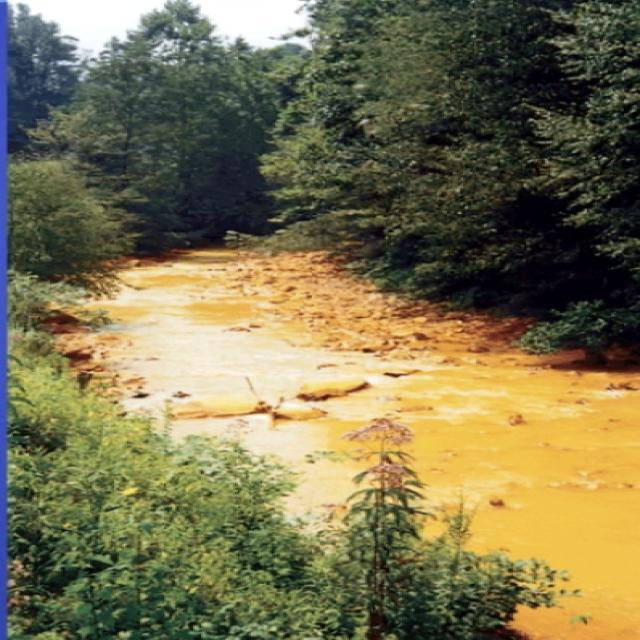yellow_boy: (96, 249, 638, 639)
